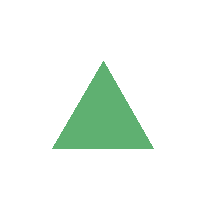triangle: (52, 61, 153, 148)
